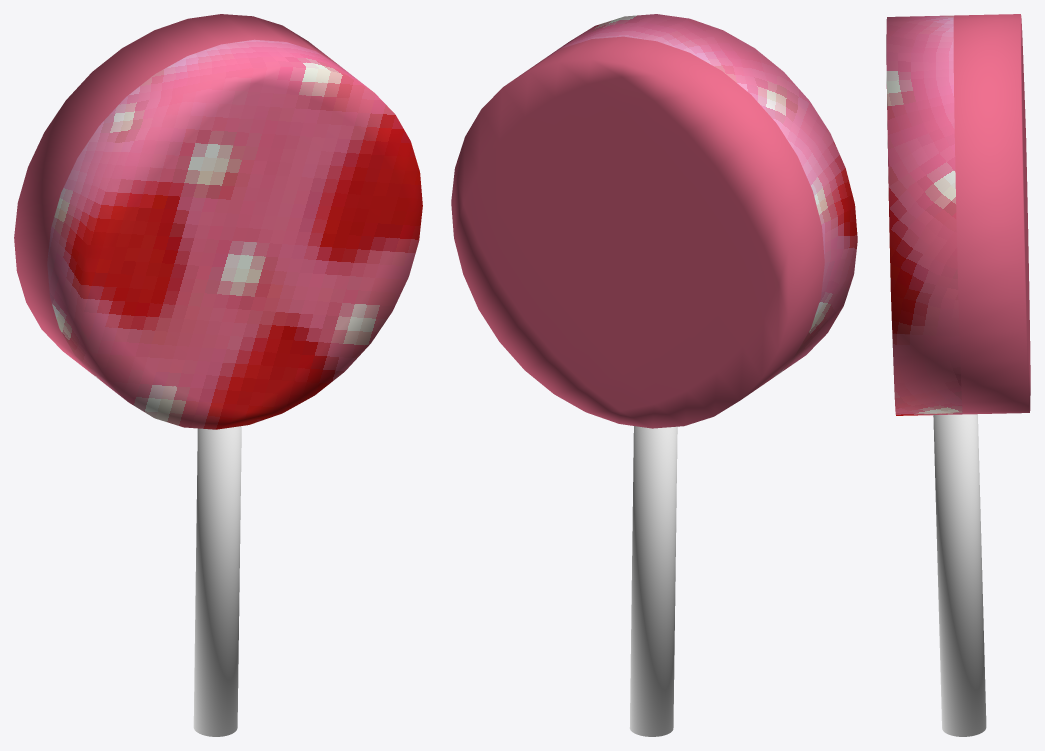
Rendered from AL_PaletitaCirculo_Static.fbx.
The picture shows the model from 3 angles, left to right: view 1: azimuth 30°, elevation 25°; view 2: azimuth 150°, elevation 25°; view 3: azimuth 270°, elevation 25°; orthographic projection.
Visible parts, largest first — view 1: Circle; view 2: Circle; view 3: Circle.
Boxes of the visible parts, x1,y1,x2,y2 form: Circle: [14, 14, 422, 736]; Circle: [451, 14, 857, 736]; Circle: [886, 14, 1030, 736].
Bounding box in the file's own units: 0.0462 × 0.2457 × 0.1279.
